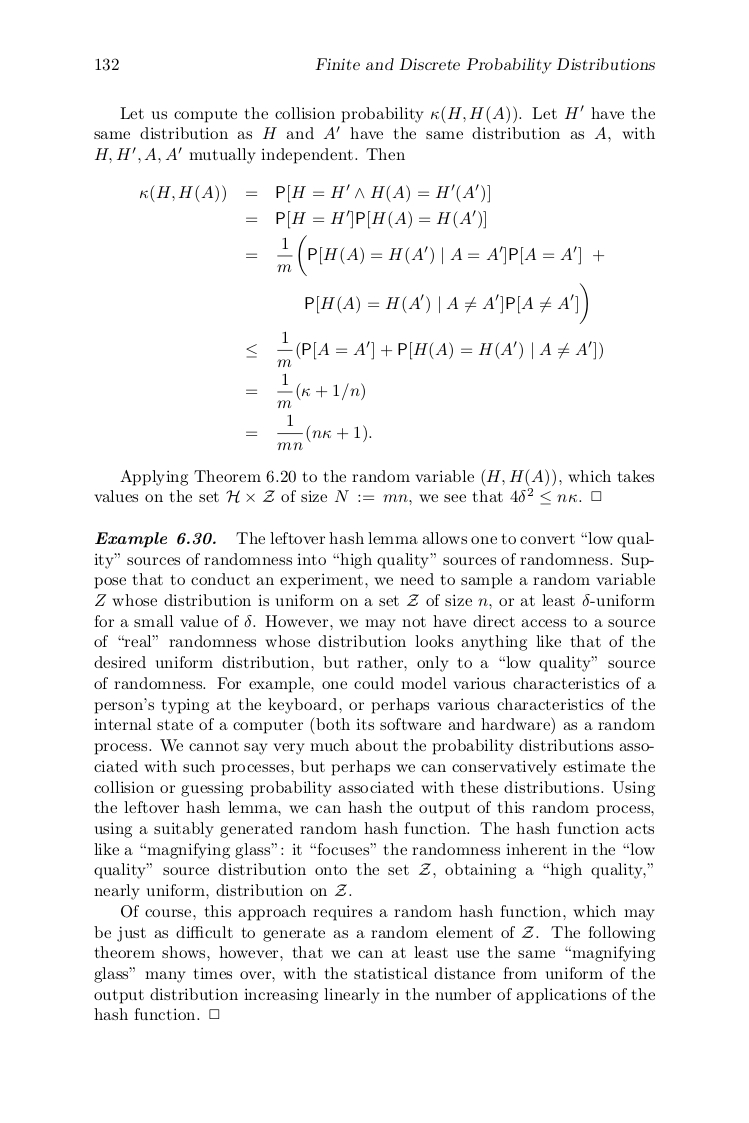formula: (246, 234, 604, 276), (246, 330, 602, 368), (305, 282, 587, 324), (140, 182, 489, 203), (246, 209, 485, 229), (246, 413, 371, 451), (246, 372, 364, 409)
